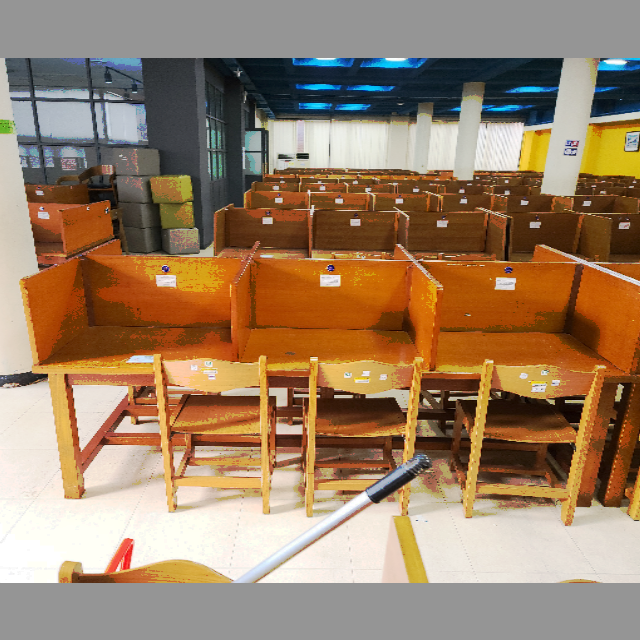empty: (34, 240, 236, 454), (242, 242, 435, 435), (444, 241, 635, 436)
